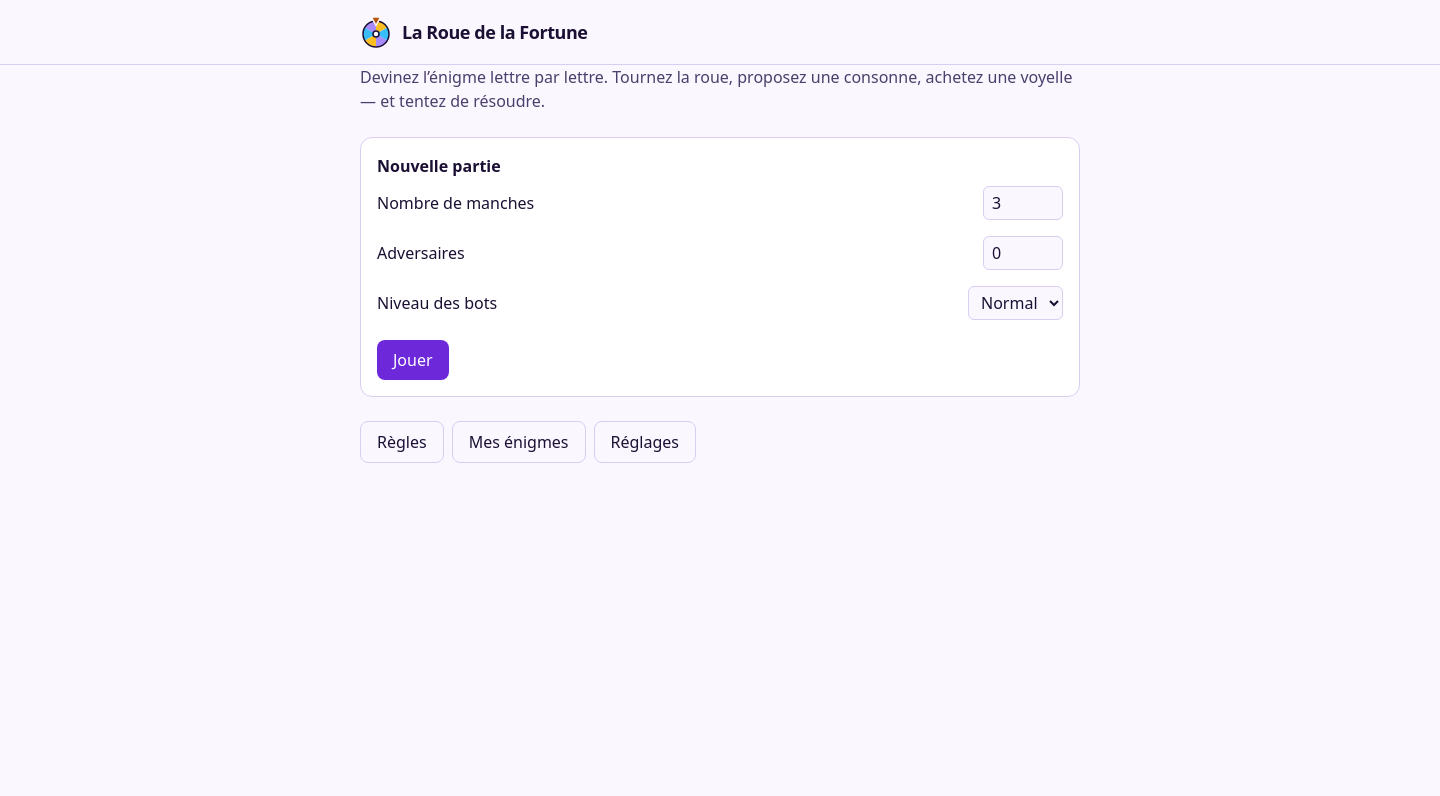
Scenario: accueil › mène à l’écran de jeu après avoir lancé une partie
What coordinates should you click on to do the following:
click the button "Jouer"
I would click on:
 (413, 360)
Its box is [377,340,449,380].
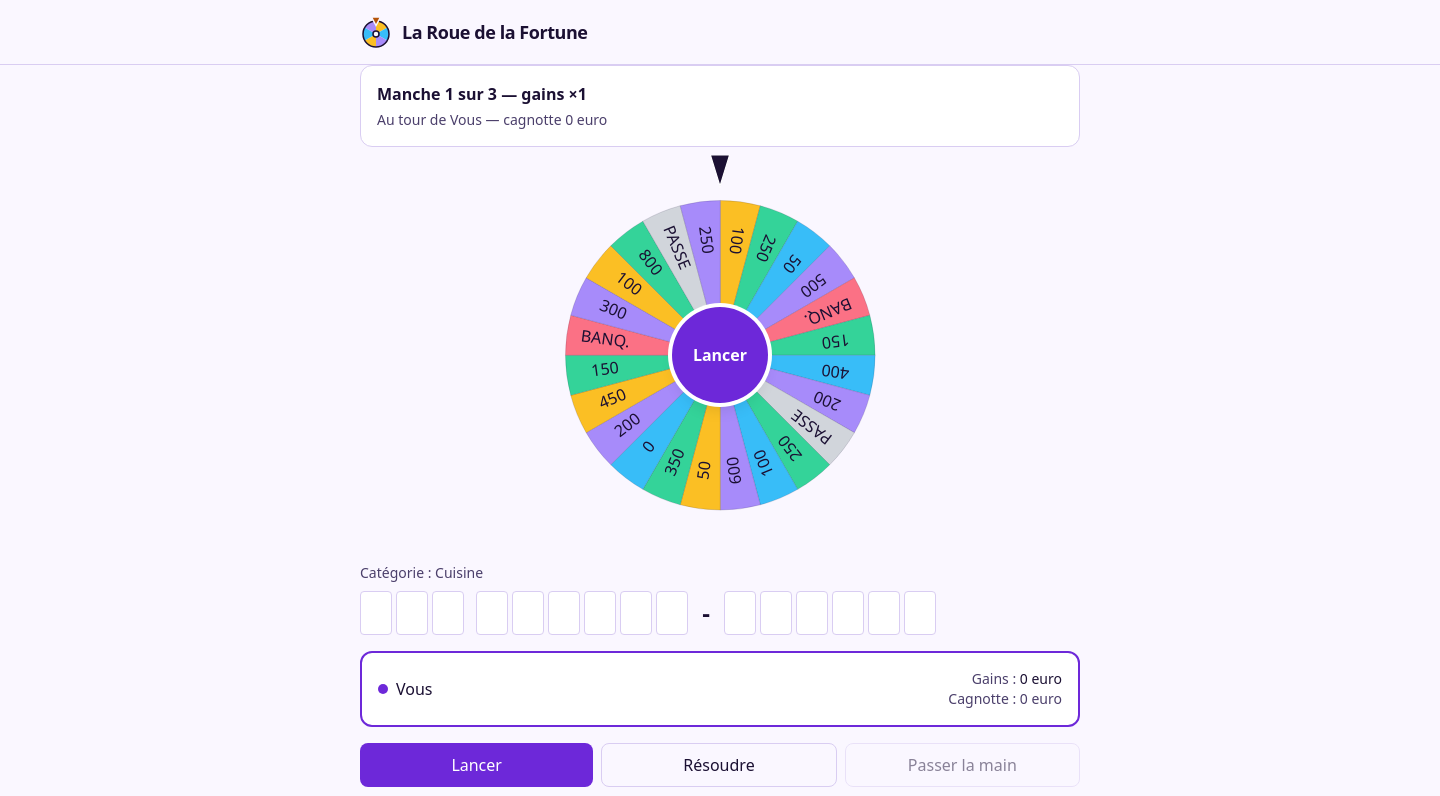
Now the heading "Manche 1 sur 3 — gains ×1" is shown, box [377,83,587,105]
